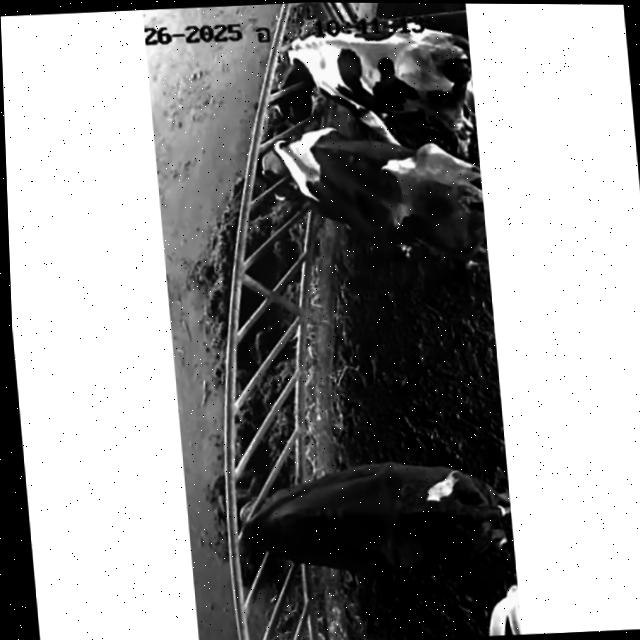eat: (180, 111, 397, 247), (181, 454, 362, 594), (233, 10, 389, 105)
